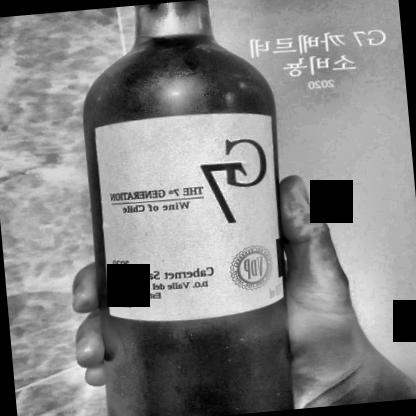G7: (92, 108, 288, 328)
